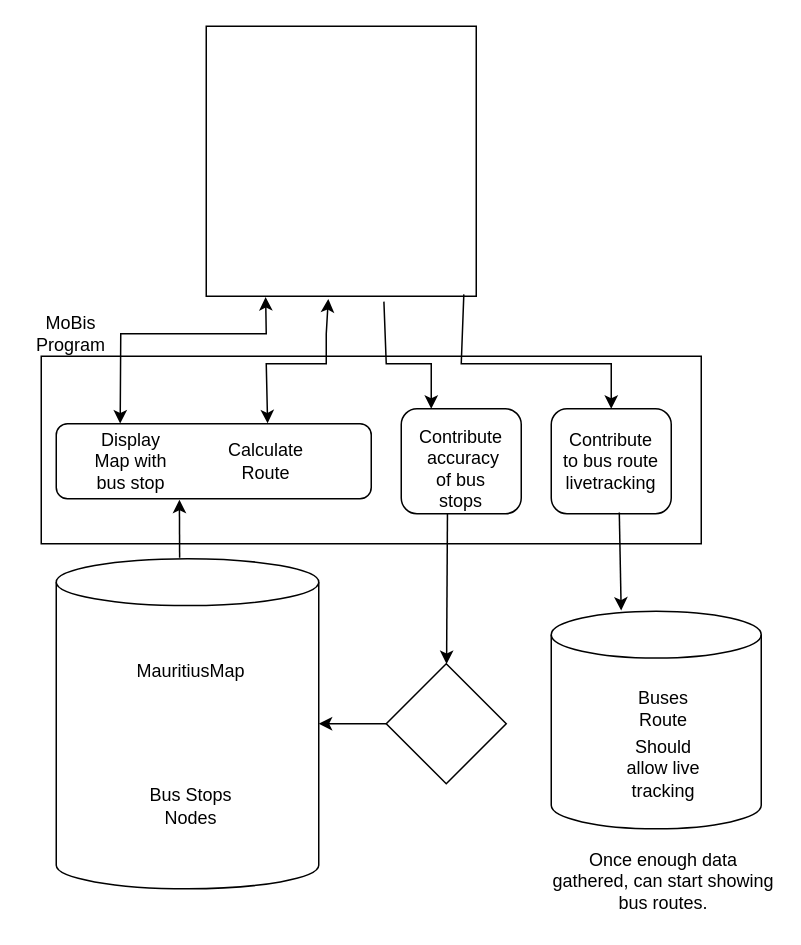
This 801x945 diagram has some shape labels left out. Here are the shapes that lost their labels. From the top down, the box of each, then its label:
(205, 25, 476, 296): Website/API MoBis
(385, 662, 506, 784): Admin approves?
